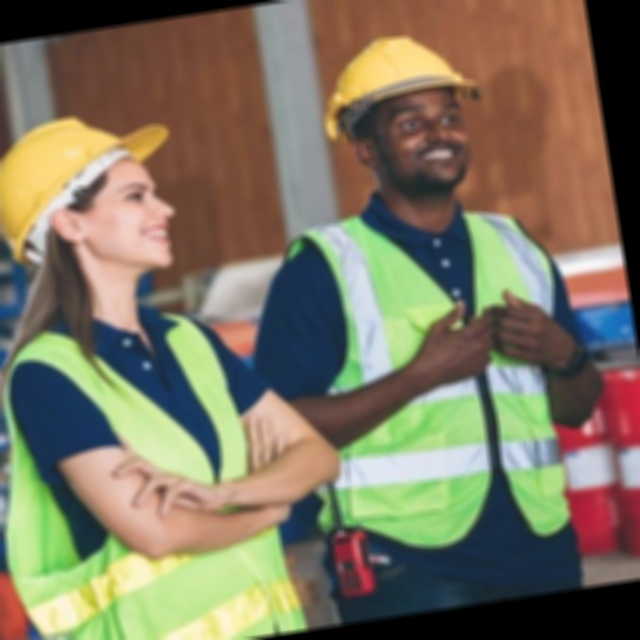Con_Casco: (0, 100, 192, 294), (316, 23, 491, 207)
Con_Chaleco: (279, 186, 594, 568), (0, 298, 307, 640)
